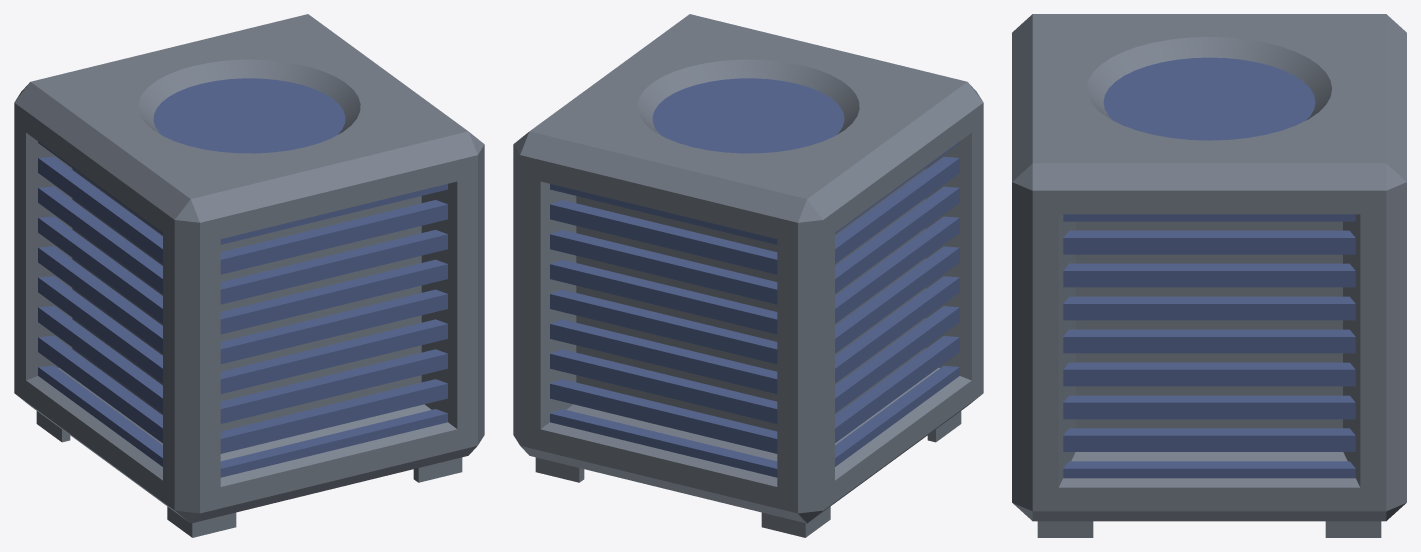
Rendered from Cube_022_geometry-panic-factory.fbx.
3 renders of one model, left to right at view 1: azimuth 30°, elevation 25°; view 2: azimuth 150°, elevation 25°; view 3: azimuth 270°, elevation 25°, orthographic. The views are drawn at different scales.
Visible parts, largest first — view 1: Cube.022.geometry-panic-factory; view 2: Cube.022.geometry-panic-factory; view 3: Cube.022.geometry-panic-factory.
Part boxes in pixels (<box>): Cube.022.geometry-panic-factory: <box>14,14,484,537</box>; Cube.022.geometry-panic-factory: <box>513,14,983,537</box>; Cube.022.geometry-panic-factory: <box>1012,14,1406,537</box>.
Bounding box in the file's own units: 0.95 × 1 × 0.95.
